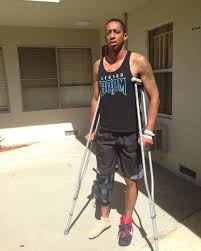crutches: (63, 18, 159, 251)
